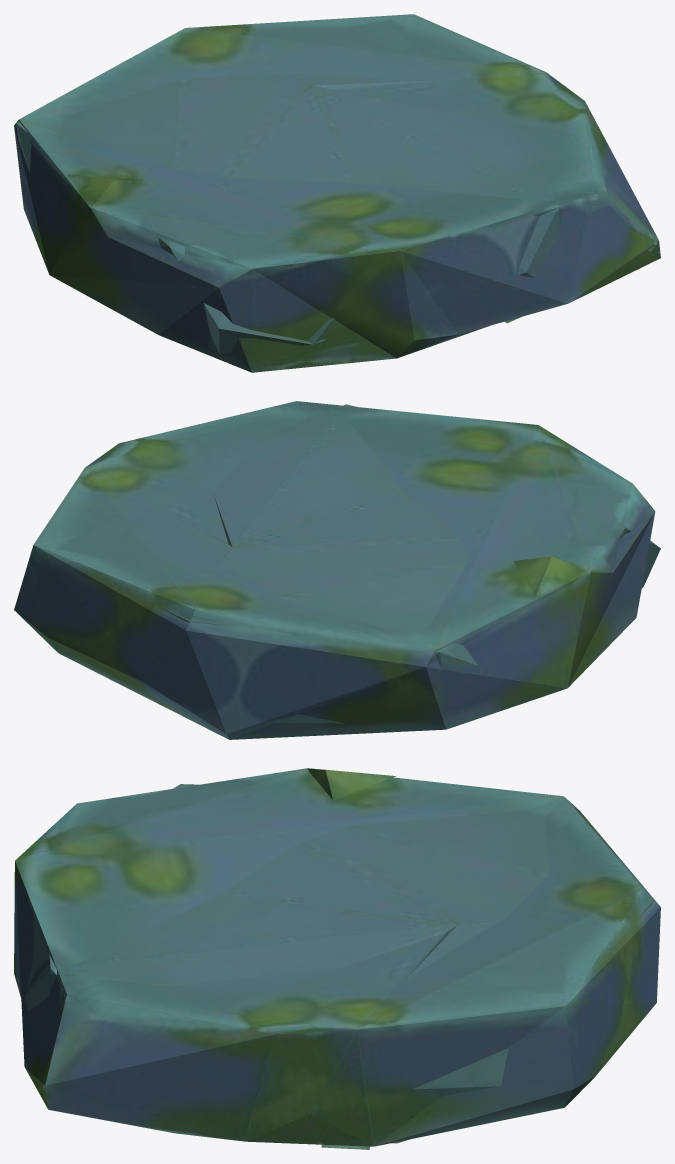
Rendered from v-pierre-semis.glb.
3 renders of one model, top to bottom at view 1: azimuth 30°, elevation 25°; view 2: azimuth 150°, elevation 25°; view 3: azimuth 270°, elevation 25°, orthographic. The views are drawn at different scales.
Parts seen in each view (by area): view 1: v-pierre-semis; view 2: v-pierre-semis; view 3: v-pierre-semis.
Part boxes in pixels (x1=…): v-pierre-semis: x1=14, y1=14, x2=660, y2=372; v-pierre-semis: x1=14, y1=401, x2=660, y2=739; v-pierre-semis: x1=14, y1=768, x2=660, y2=1149.
Size of the model in its own units: 2 by 0.5018 by 1.99.
1 material, 1 textured.
